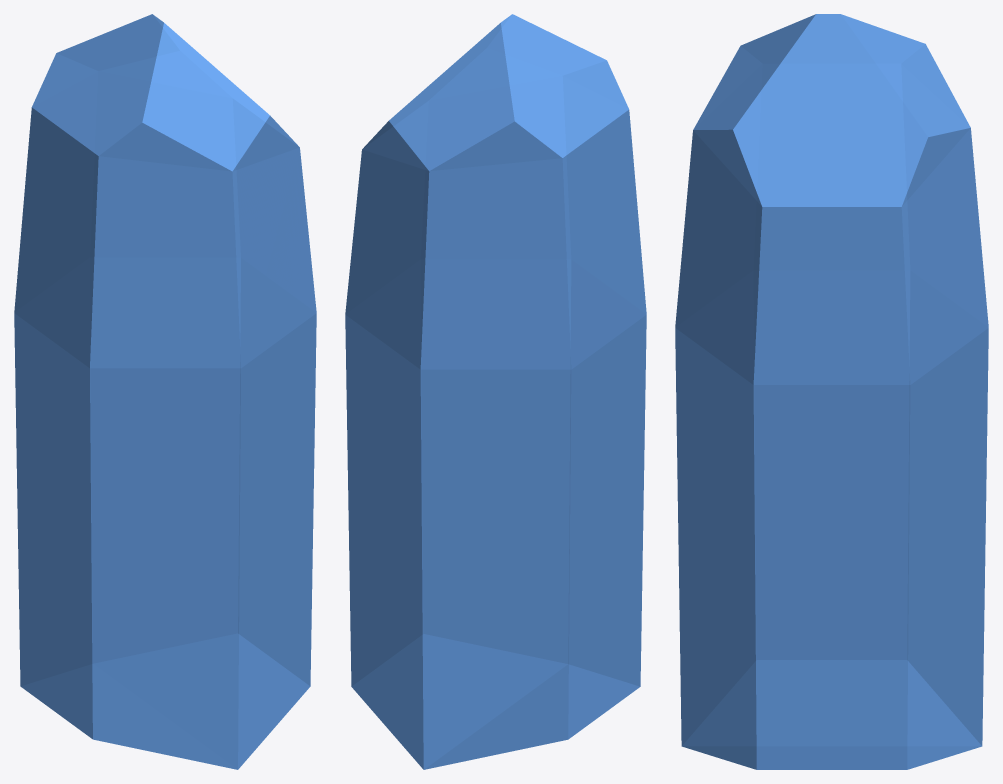
File: Crystal_m_06.fbx
3 renders of one model, left to right at view 1: azimuth 30°, elevation 25°; view 2: azimuth 150°, elevation 25°; view 3: azimuth 270°, elevation 25°, orthographic. The views are drawn at different scales.
Parts seen in each view (by area): view 1: Crystal_m_06; view 2: Crystal_m_06; view 3: Crystal_m_06.
Boxes of the visible parts, box(x1,y1,x2,y2) form: Crystal_m_06: box(14, 14, 316, 769); Crystal_m_06: box(345, 14, 646, 769); Crystal_m_06: box(675, 14, 988, 769).
Bounding box in the file's own units: 0.5721 × 1.69 × 0.6607.
